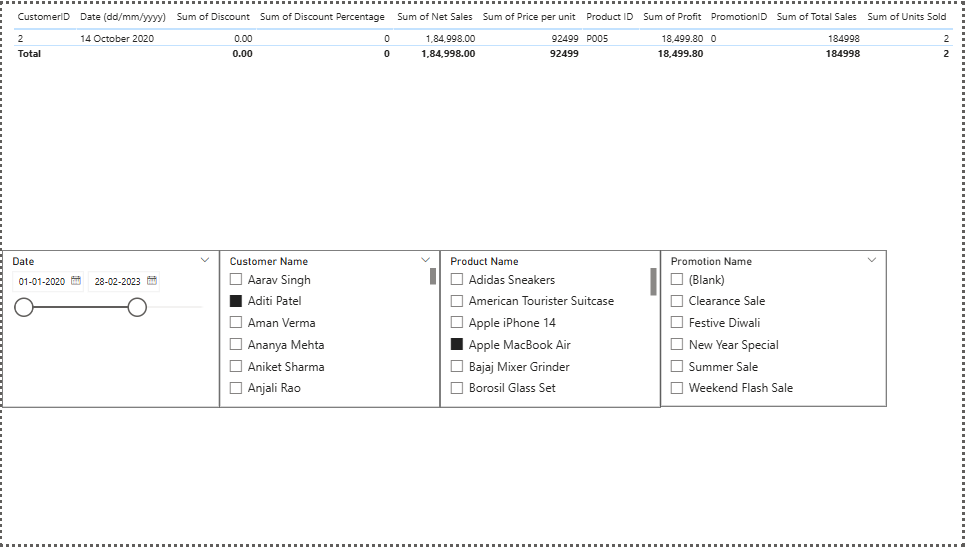

The dashboard page shown, as its layout file describes it:
{"tool":"powerbi","page":{"name":"Requirements using filters","canvas":[1280,720],"ordinal":3},"visuals":[{"type":"tableEx","fields":{"Values":["Fact Table.CustomerID","Fact Table.Date (dd/mm/yyyy)","Sum(Fact Table.Discount)","Sum(Fact Table.Discount Percentage)","Sum(Fact Table.Net Sales)","Sum(Fact Table.Price per unit)","Fact Table.Product ID","Sum(Fact Table.Profit)","Fact Table.PromotionID","Sum(Fact Table.Total Sales)","Sum(Fact Table.Units Sold)"]},"box":[10,0,1270,280],"z":0},{"type":"slicer","fields":{"Values":["Date Table 1.Date"]},"box":[0,328.6,290,210],"z":1},{"type":"slicer","fields":{"Values":["Dim Customers.Customer Name"]},"box":[290,328.6,294.3,210],"z":2},{"type":"slicer","fields":{"Values":["Dim Product.Product Name"]},"box":[584.3,328.6,294.3,210],"z":3},{"type":"slicer","fields":{"Values":["Dim Promotion.Promotion Name"]},"box":[878.6,328.6,301.4,208.6],"z":4}]}

Visuals, with their boxes in screenshot pixels (x1, y1, x2, y2), scaled from the page's 1280x720 canvas onto the 977x548 screenshot:
tableEx - Fact Table.CustomerID x Fact Table.Date (dd/mm/yyyy): [left=8, top=0, right=976, bottom=213]
slicer - Date Table 1.Date: [left=0, top=250, right=221, bottom=410]
slicer - Dim Customers.Customer Name: [left=221, top=250, right=446, bottom=410]
slicer - Dim Product.Product Name: [left=446, top=250, right=671, bottom=410]
slicer - Dim Promotion.Promotion Name: [left=671, top=250, right=901, bottom=409]
